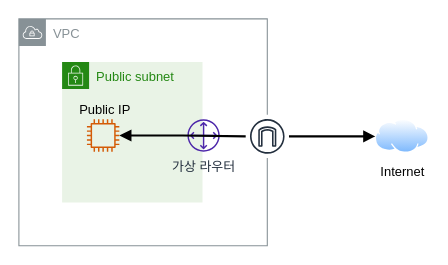
The diagram is 448 pixels wide and 265 high, and some of its shapes have lost their labels. Here are the shapes that lost their labels. From the top down, the centre of each, then its label:
At point (102, 135): "Instance".
At point (267, 136): "Internet gateway".
